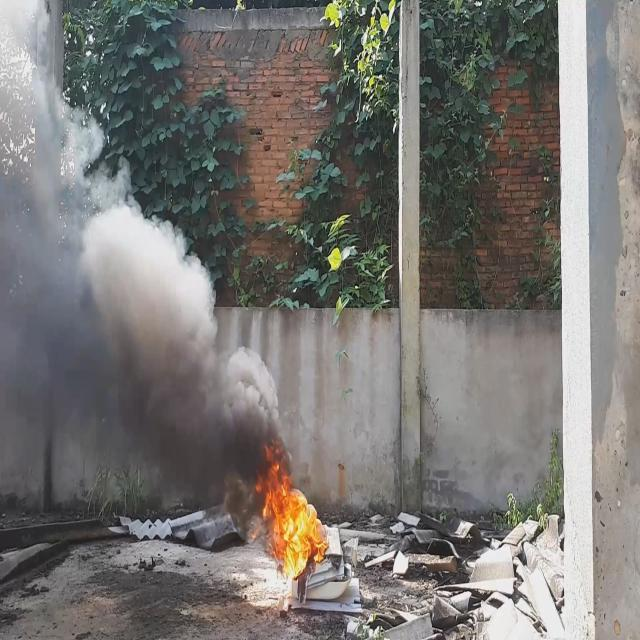Fire: (260, 442, 328, 600)
Smoke: (0, 0, 291, 522)
